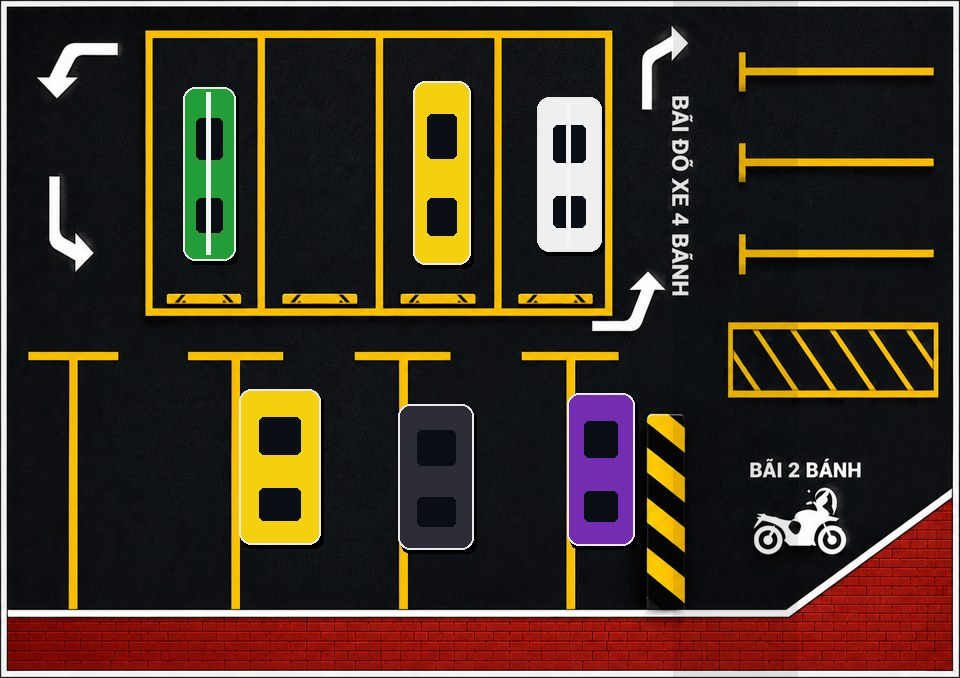empty: (35, 351, 199, 598), (267, 35, 386, 309)
occupied: (360, 351, 518, 598), (201, 351, 357, 598), (524, 351, 672, 598), (148, 35, 267, 309), (386, 35, 505, 309), (505, 35, 624, 309)
